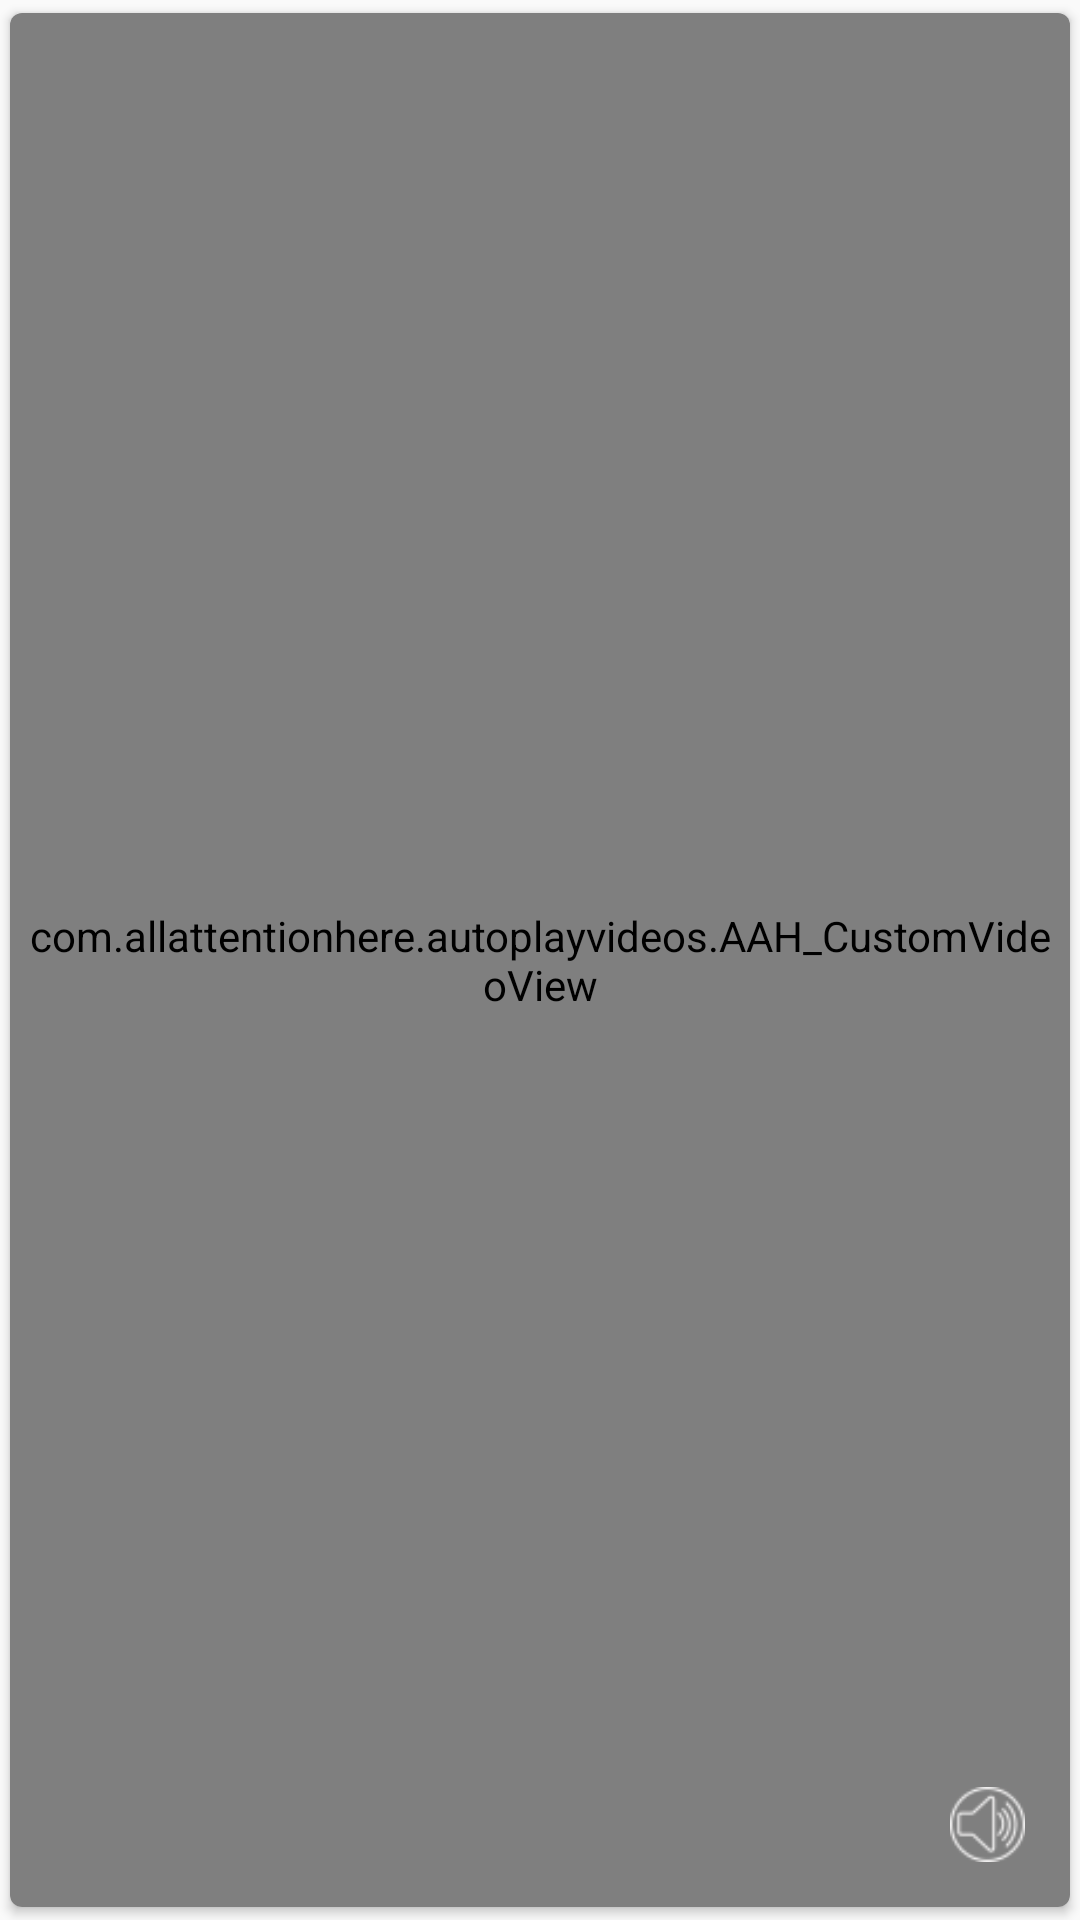

Icons on this 1080x1920 Android screen, each with the point to tap as (x=x, y=y):
on sound: (x=987, y=1824)
